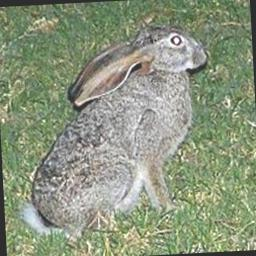rabbit: (20, 24, 206, 237)
